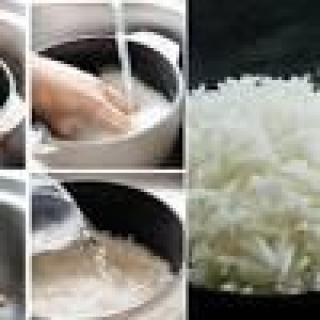Nasi: (183, 72, 318, 293)
